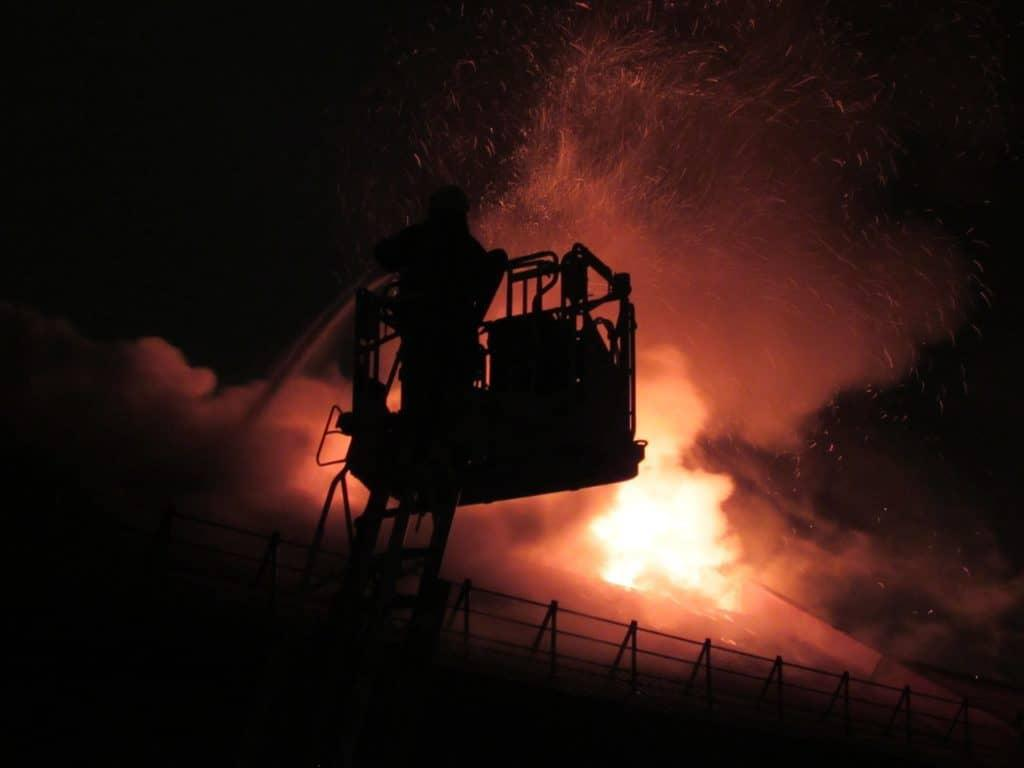Fire: (586, 429, 752, 621)
